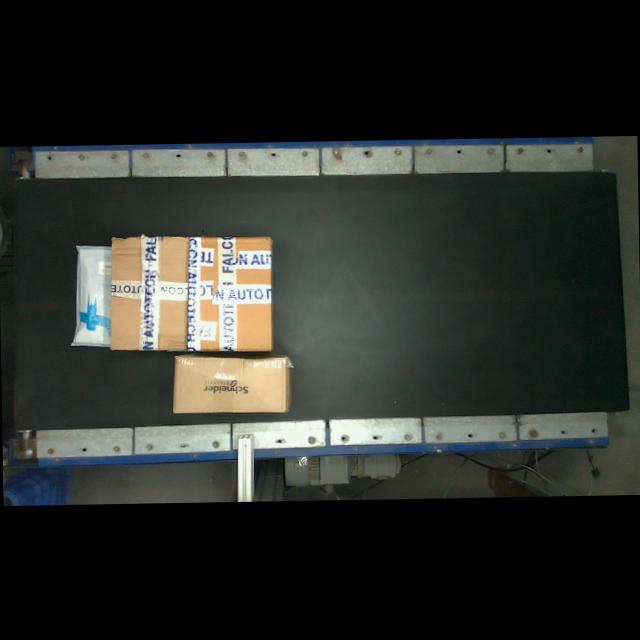box: (110, 234, 272, 350), (110, 234, 188, 349), (173, 353, 291, 412)
mailer: (71, 245, 111, 346)
